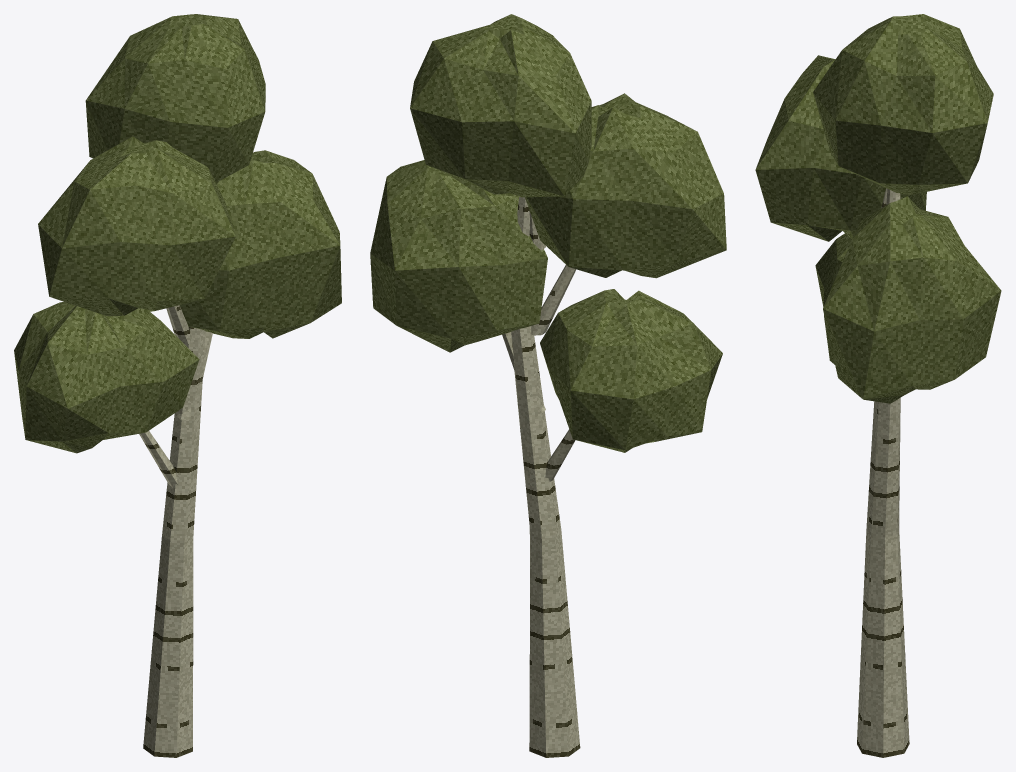
Rendered from birch.glb.
The picture shows the model from 3 angles, left to right: view 1: azimuth 30°, elevation 25°; view 2: azimuth 150°, elevation 25°; view 3: azimuth 270°, elevation 25°; orthographic projection. The views are drawn at different scales.
Visible parts, largest first — view 1: Birch_LightOpenCrown, Birch_PaleForkedTrunk; view 2: Birch_LightOpenCrown, Birch_PaleForkedTrunk; view 3: Birch_LightOpenCrown, Birch_PaleForkedTrunk.
Boxes of the visible parts, x1=… form: Birch_LightOpenCrown: x1=14, y1=14, x2=341, y2=453; Birch_PaleForkedTrunk: x1=139, y1=305, x2=212, y2=757; Birch_LightOpenCrown: x1=370, y1=14, x2=726, y2=452; Birch_PaleForkedTrunk: x1=502, y1=197, x2=580, y2=757; Birch_LightOpenCrown: x1=755, y1=14, x2=1001, y2=403; Birch_PaleForkedTrunk: x1=857, y1=188, x2=909, y2=757.
Size of the model in its own units: 2.81 by 6.08 by 1.82.
Materials: 2 (2 with a texture image).
